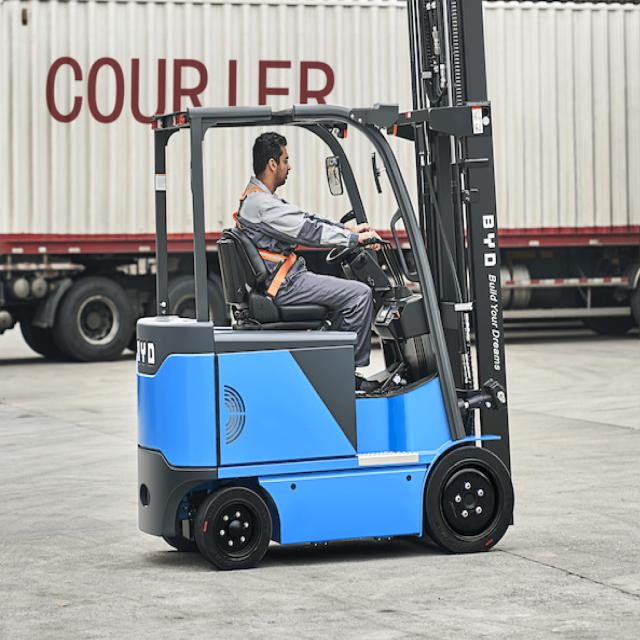Person: (234, 131, 381, 367)
